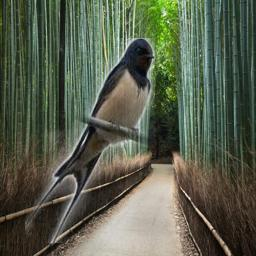Swallow: (25, 38, 155, 243)
